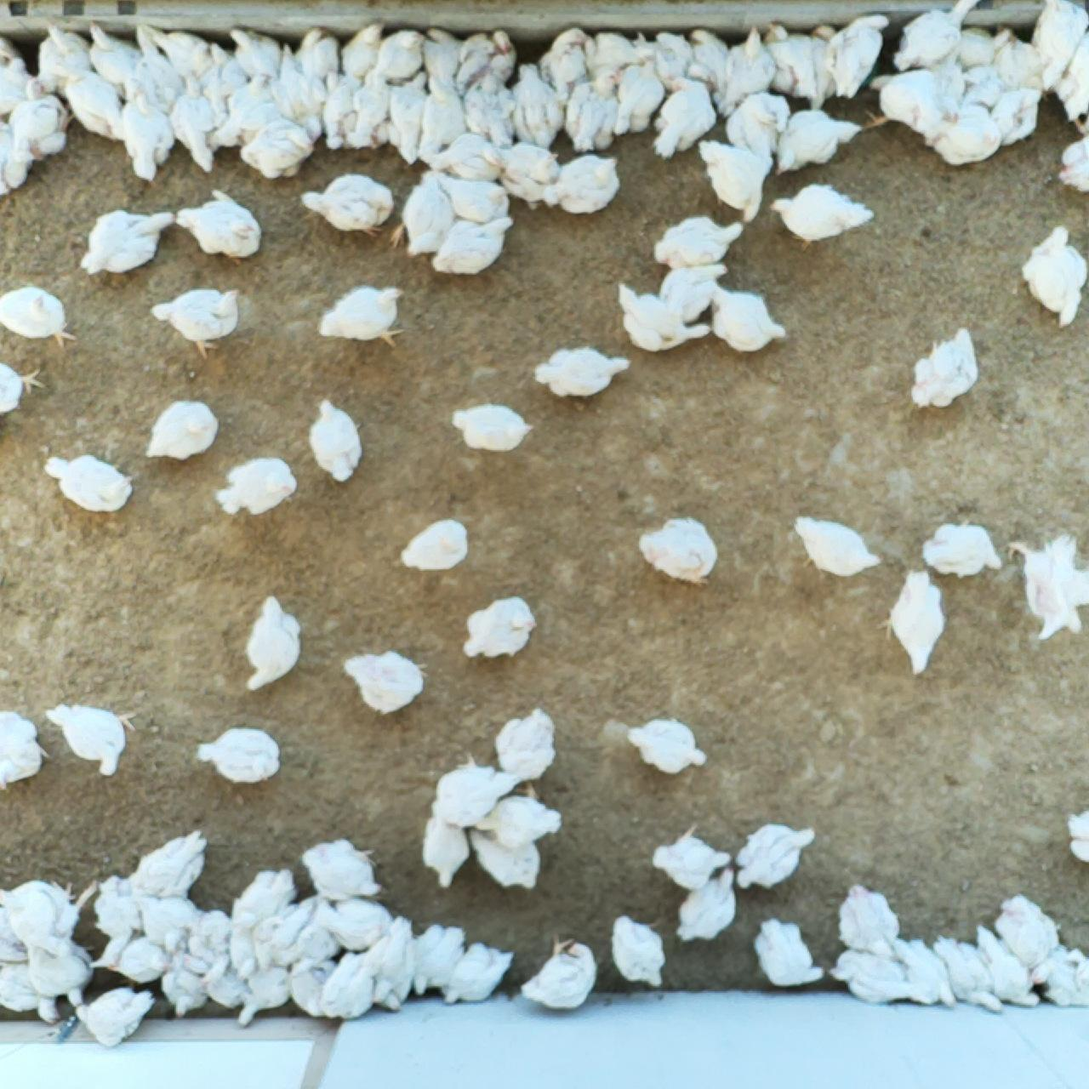chicken: (1000, 534, 1089, 640), (875, 565, 952, 680), (901, 318, 988, 417), (1013, 220, 1089, 333), (768, 180, 876, 254), (0, 876, 98, 957), (3, 76, 69, 194), (46, 701, 147, 778), (425, 750, 522, 827), (77, 206, 180, 278), (694, 135, 775, 225), (616, 281, 709, 358), (148, 284, 242, 360), (171, 186, 262, 264), (852, 64, 953, 134), (231, 862, 297, 968), (300, 174, 401, 243), (312, 278, 406, 352), (891, 0, 983, 75), (113, 76, 178, 181), (49, 53, 126, 140), (969, 922, 1046, 1008), (241, 597, 306, 698), (342, 648, 433, 720), (772, 106, 865, 176), (633, 515, 721, 587), (822, 13, 895, 99), (710, 25, 776, 120), (827, 946, 919, 1013), (650, 71, 719, 160), (792, 512, 881, 580), (931, 930, 1003, 1014), (44, 452, 137, 517), (304, 398, 372, 486), (212, 453, 302, 519), (736, 822, 820, 892), (708, 280, 787, 354), (751, 917, 830, 991), (210, 71, 281, 153), (651, 820, 735, 889), (138, 397, 220, 467), (920, 513, 1003, 582), (361, 913, 420, 1010), (920, 101, 1004, 169), (460, 591, 538, 664), (138, 19, 219, 89), (429, 216, 516, 281), (517, 936, 595, 1008), (391, 171, 456, 257), (165, 71, 220, 172), (652, 211, 743, 272), (438, 935, 515, 1007), (1027, 0, 1088, 90), (533, 345, 631, 401), (194, 724, 282, 786), (672, 867, 740, 947), (300, 840, 389, 901), (426, 163, 512, 226), (272, 42, 326, 142), (131, 828, 208, 898), (464, 823, 543, 891), (74, 985, 155, 1051), (477, 782, 566, 842), (624, 716, 710, 778), (89, 877, 145, 972), (792, 18, 847, 114), (124, 23, 182, 114), (0, 285, 83, 348), (83, 18, 143, 105), (33, 26, 101, 102), (891, 935, 958, 1012), (381, 68, 434, 165), (21, 937, 94, 1007), (581, 27, 657, 94), (510, 62, 567, 151), (540, 153, 625, 212), (452, 401, 537, 460), (233, 119, 312, 182), (251, 898, 318, 972), (1045, 28, 1089, 140), (562, 75, 622, 157), (726, 89, 790, 165), (608, 910, 672, 986), (460, 68, 518, 151), (651, 260, 725, 325), (197, 42, 252, 129), (417, 74, 469, 165), (494, 704, 556, 780), (453, 26, 520, 96), (834, 884, 897, 958), (274, 898, 340, 968), (407, 921, 464, 1002), (492, 142, 563, 207), (684, 27, 736, 115), (614, 53, 667, 139), (425, 131, 511, 183), (310, 897, 396, 949), (985, 82, 1047, 154), (399, 516, 473, 576), (363, 24, 430, 90), (991, 889, 1051, 962), (535, 22, 589, 103), (0, 708, 49, 797), (1028, 939, 1089, 1009), (0, 959, 63, 1026), (181, 951, 251, 1011), (135, 892, 203, 953), (187, 906, 236, 990), (323, 955, 382, 1023), (761, 22, 810, 102), (418, 814, 470, 889), (950, 54, 1013, 114), (158, 949, 208, 1023), (345, 73, 393, 150), (420, 24, 467, 101), (293, 26, 348, 90), (0, 30, 39, 120), (317, 72, 358, 154), (224, 26, 285, 80), (653, 27, 700, 97), (288, 958, 342, 1018), (235, 968, 289, 1026), (991, 32, 1045, 87), (953, 20, 1015, 67), (115, 931, 175, 979), (341, 17, 385, 82), (0, 357, 49, 414), (1052, 131, 1089, 197), (1063, 804, 1089, 867)
